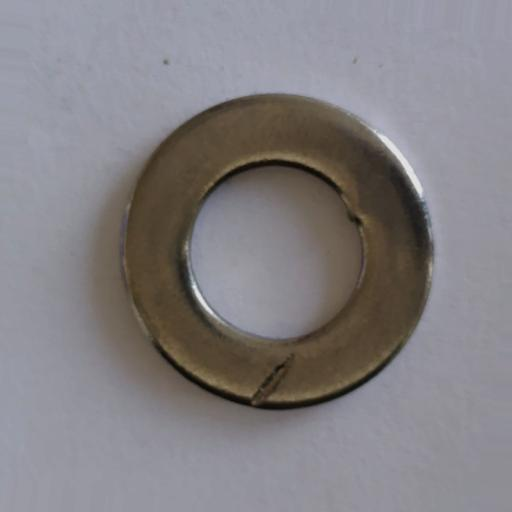scratch: (248, 354, 295, 407)
